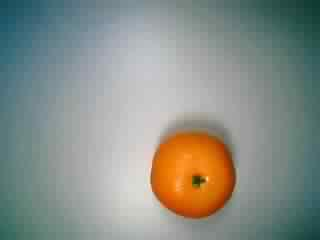orange: (143, 118, 238, 220)
